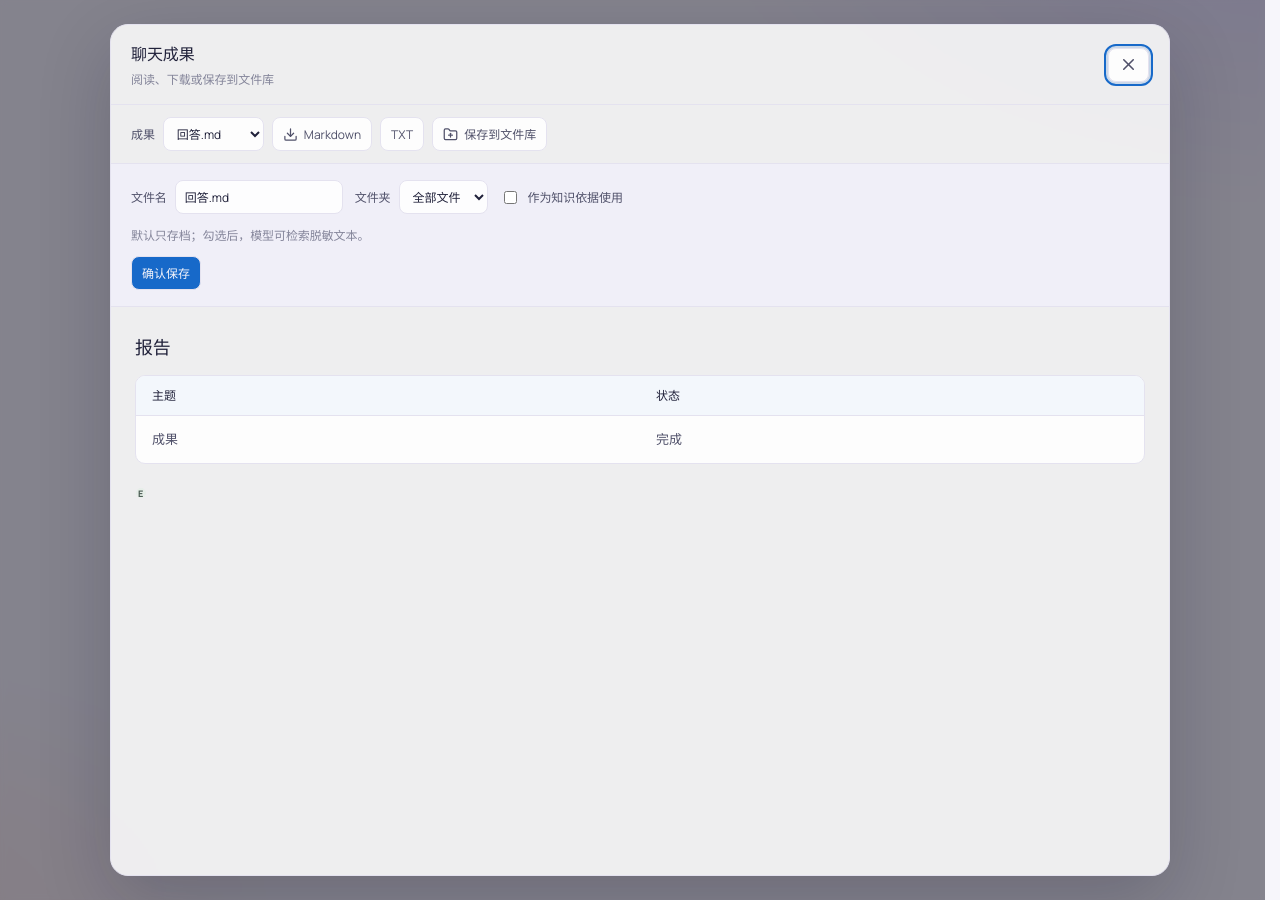
Test case: chat result reader and archive › keeps the user's save fields after a conflict and supports reopening a refreshed snapshot
Expected: the dropdown named "选择成果" is shown, left=163, top=117, right=264, bottom=151
Replace the text in the field labelled "文件名" with "保留标题.md" at (259, 197), box left=175, top=180, right=343, bottom=214
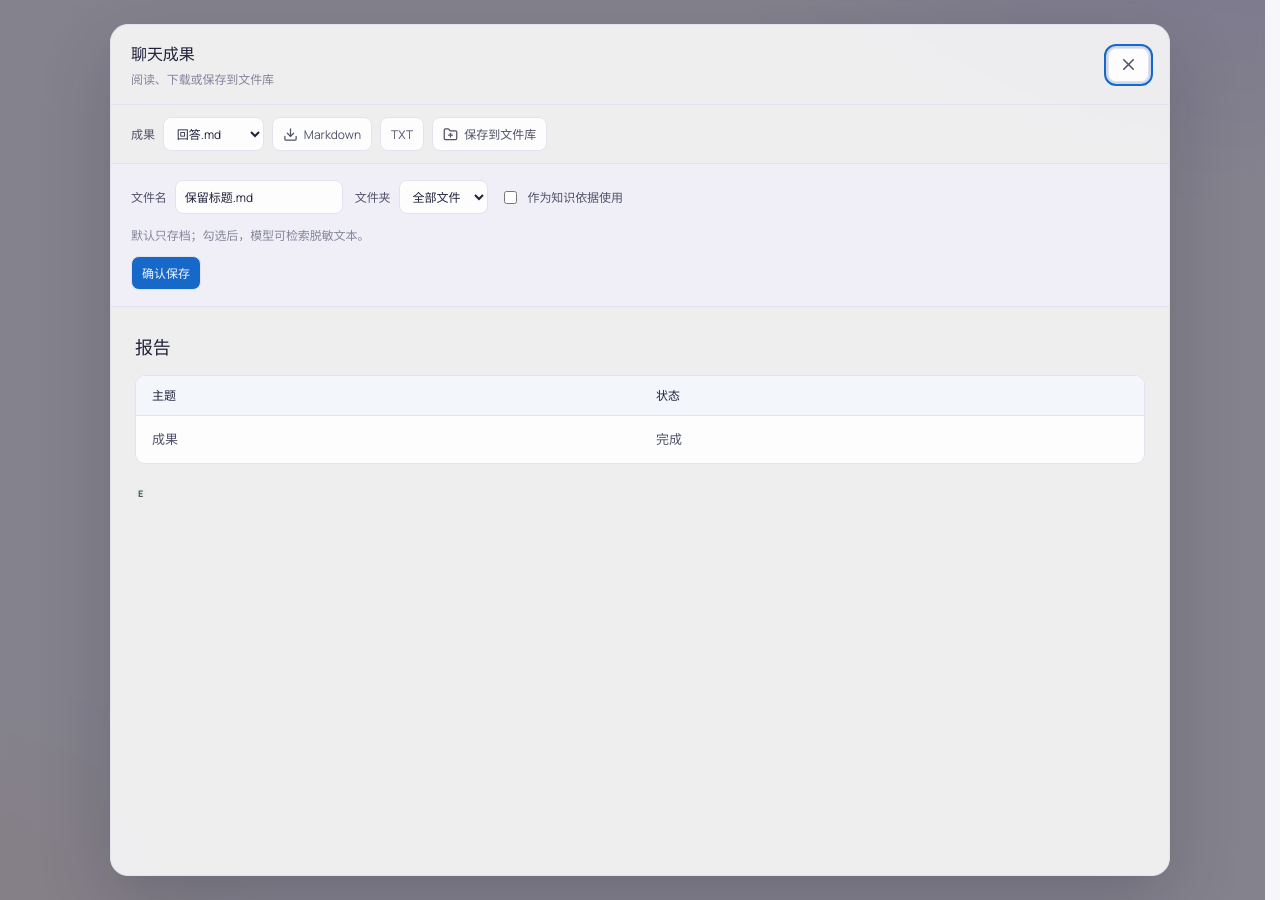
Click the button "确认保存" at (166, 273), box left=131, top=256, right=201, bottom=290
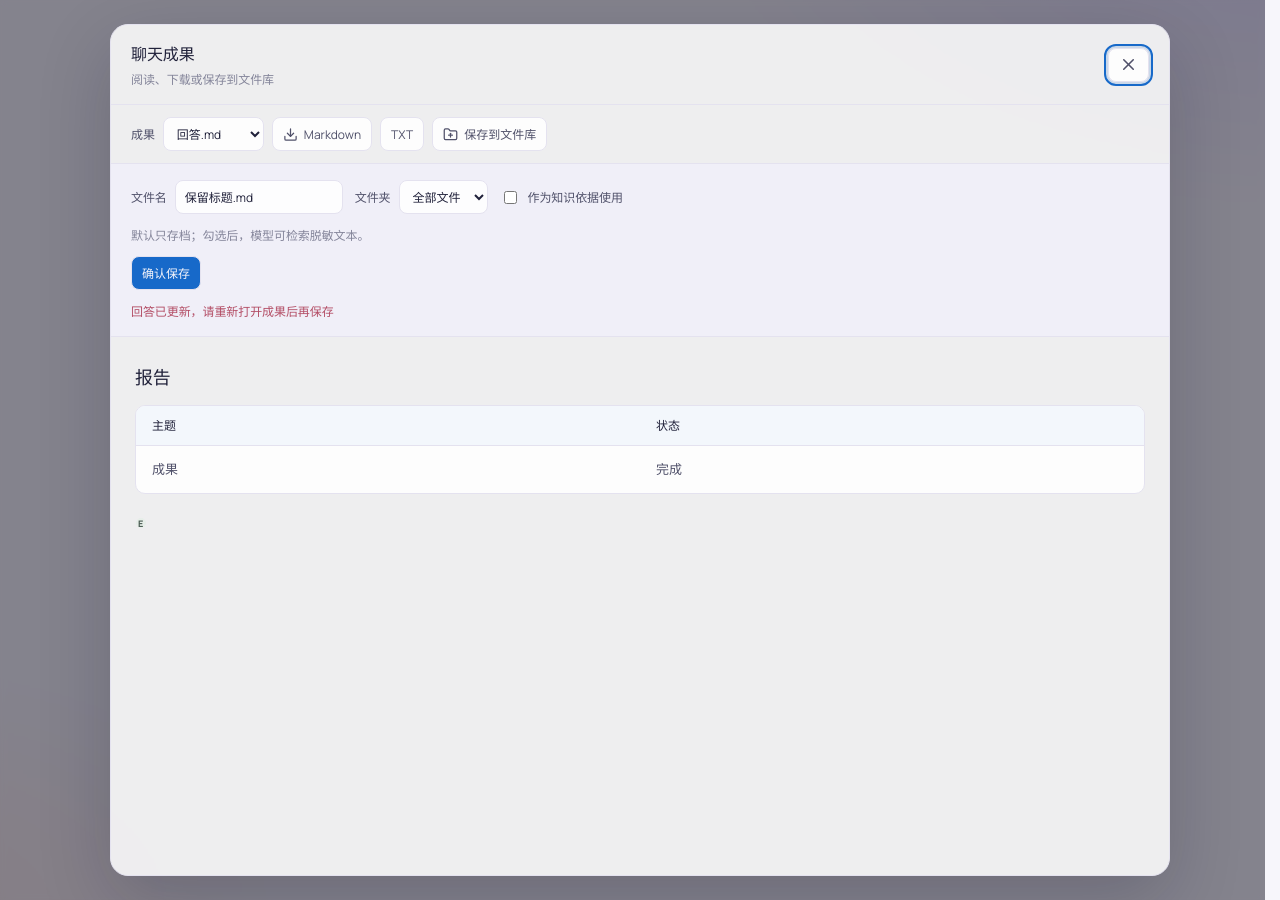
Expected: the message shows "回答已更新", left=131, top=303, right=334, bottom=320
